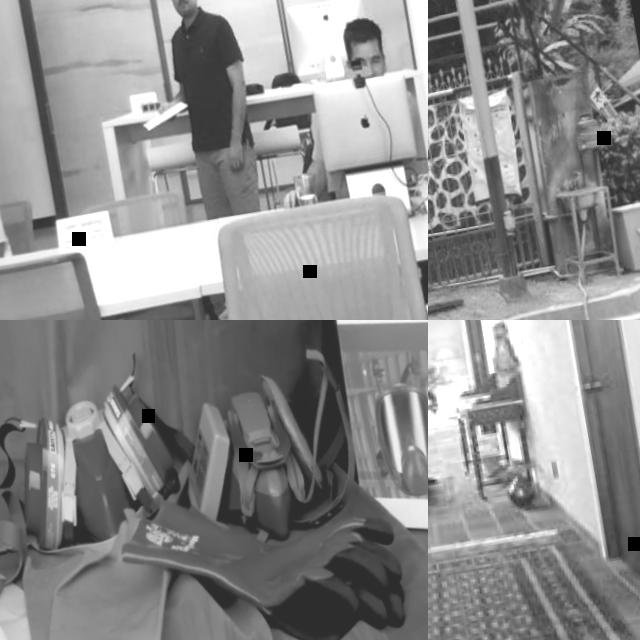Mask: (1, 372, 189, 555), (167, 362, 336, 553)
NO-Hardhat: (338, 12, 386, 56)
NO-Mask: (172, 0, 200, 18)
NO-Safety Vest: (165, 8, 259, 157), (0, 171, 10, 261)
Person: (252, 10, 411, 209), (135, 0, 269, 222), (0, 165, 13, 259)
